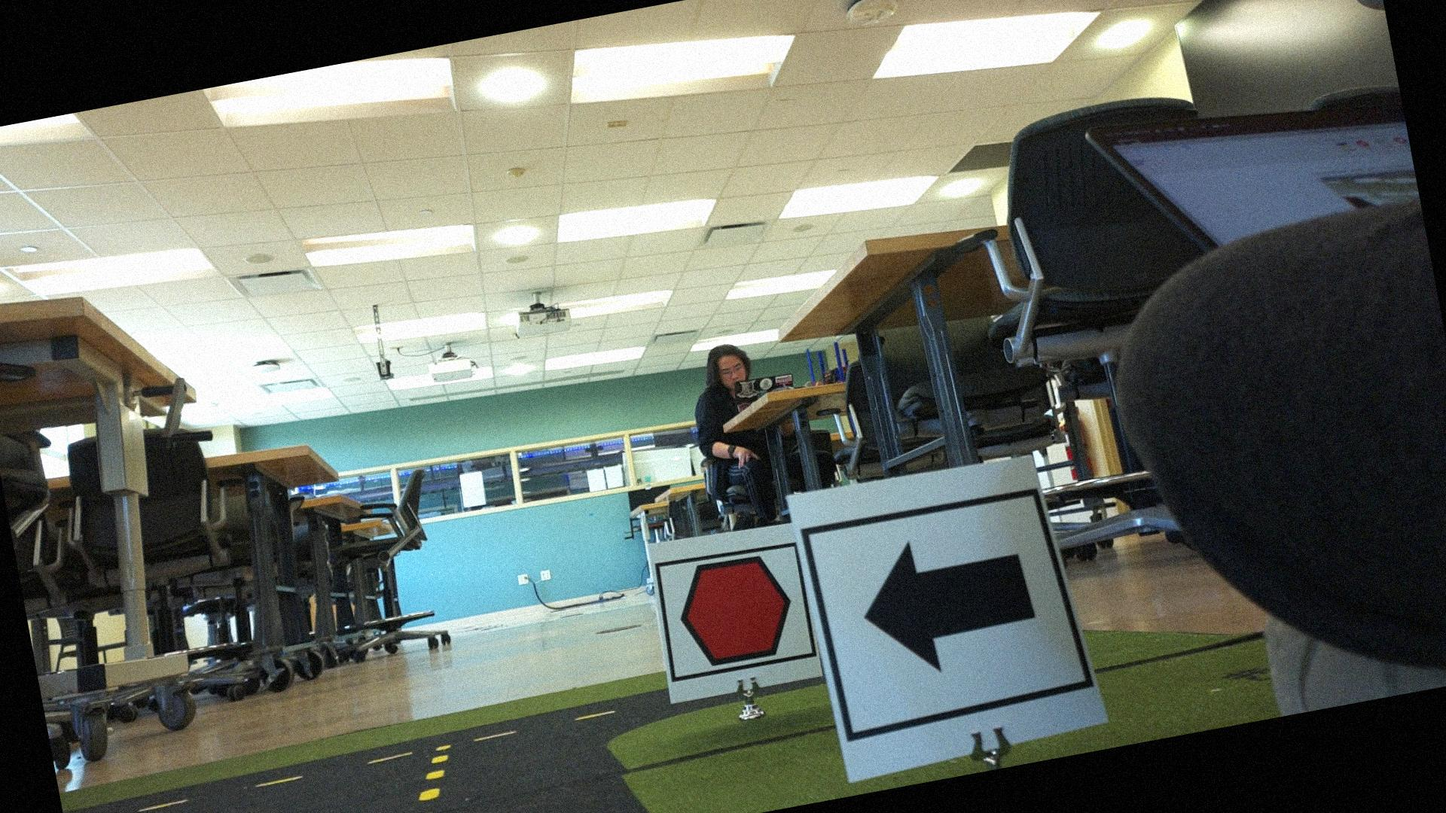stop: (658, 544, 814, 681)
turnright: (806, 492, 1078, 745)
yellowline: (368, 754, 468, 812)
